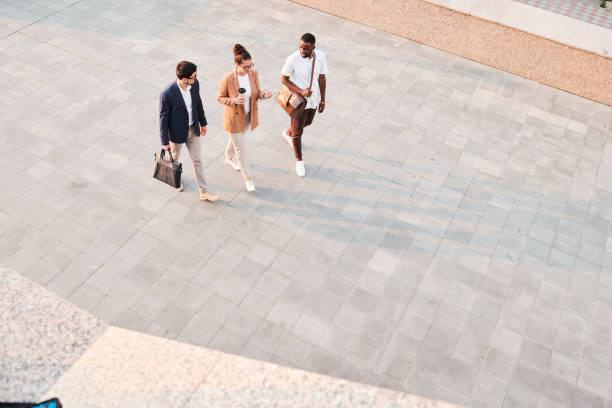jacket: (157, 79, 206, 145), (216, 69, 265, 134)
short sleeve shirt: (281, 49, 328, 110)
trousers: (168, 124, 209, 192), (225, 112, 257, 179), (286, 105, 318, 161)
